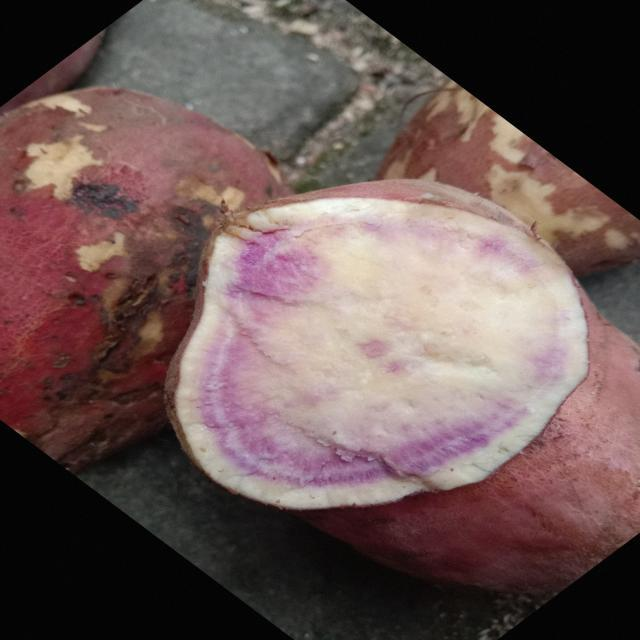Healthy Sweet Potato: (168, 180, 588, 510)
